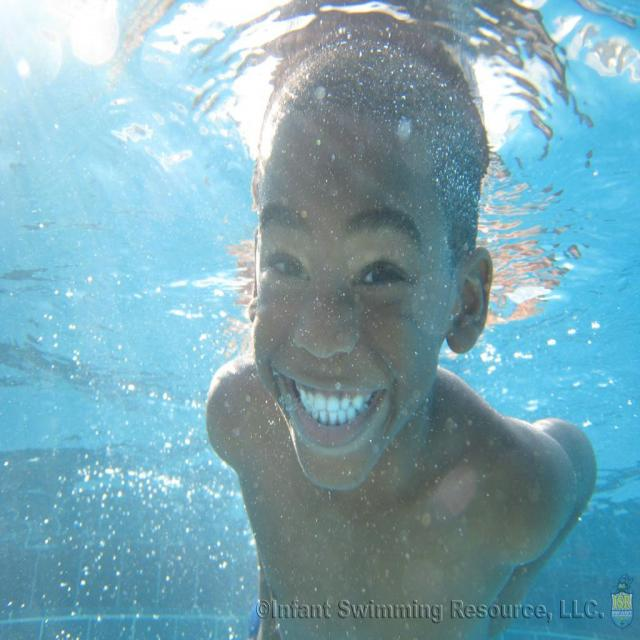nomask: (260, 153, 440, 485)
